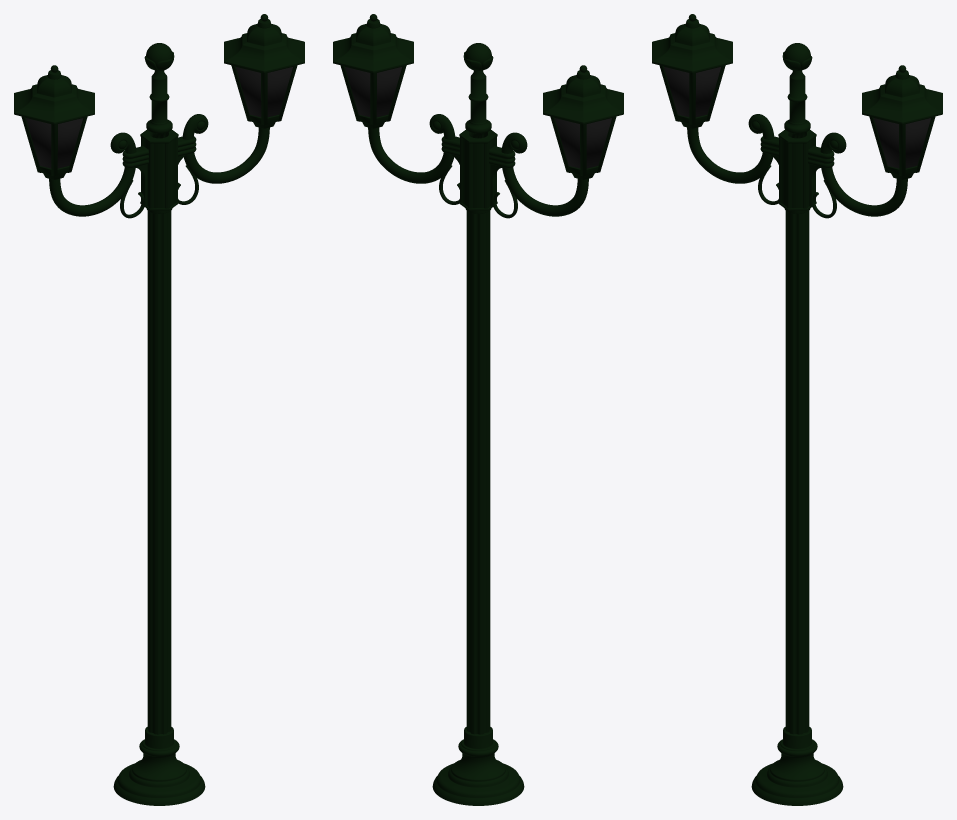
3 renders of one model, left to right at view 1: azimuth 30°, elevation 25°; view 2: azimuth 150°, elevation 25°; view 3: azimuth 330°, elevation 25°, orthographic.
Visible parts, largest first — view 1: vm_ST_030; view 2: vm_ST_030; view 3: vm_ST_030.
Boxes of the visible parts, x1,y1,x2,y2 form: vm_ST_030: (14, 14, 304, 805); vm_ST_030: (333, 14, 623, 805); vm_ST_030: (652, 14, 942, 805).
Size of the model in its own units: 141 by 347 by 38.58.
